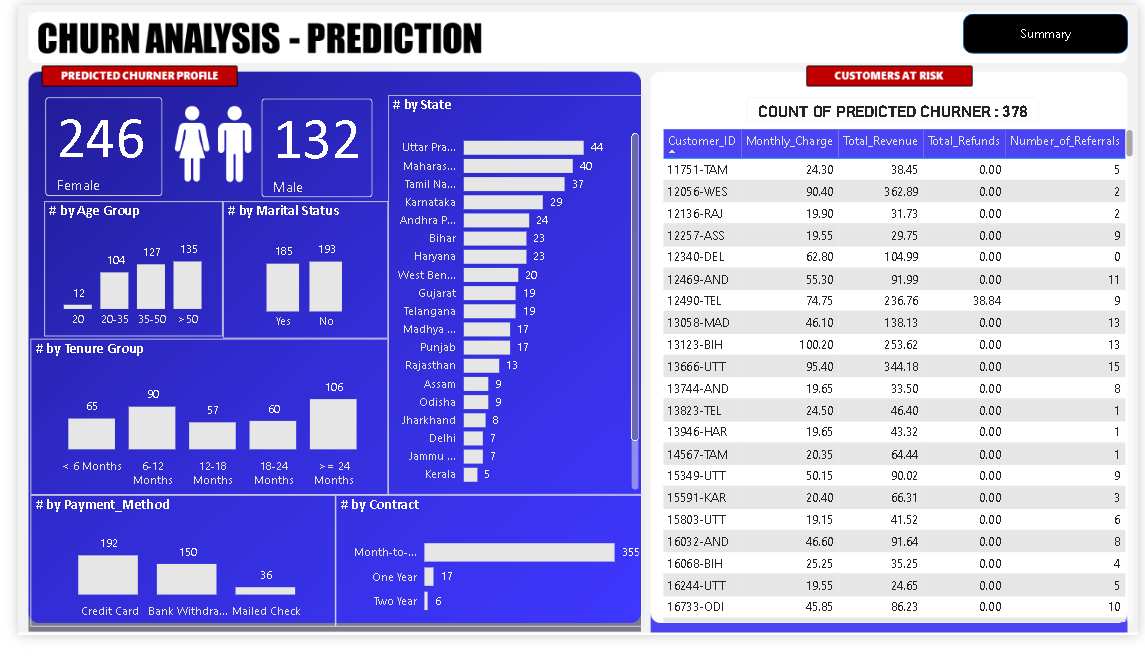

The dashboard page shown, as its layout file describes it:
{"tool":"powerbi","page":{"name":"Churn Prediction","canvas":[1280,720],"ordinal":2},"visuals":[{"type":"tableEx","fields":{"Values":["Predictions.Customer_ID","Predictions.Monthly_Charge","Predictions.Total_Revenue","Predictions.Total_Refunds","Predictions.Number_of_Referrals"]},"box":[731.4,137.1,548.6,572.9],"z":0},{"type":"cardVisual","fields":{"Data":["Table_Measures.Title Predicted Churner"]},"box":[815.7,88.6,368.6,62.9],"z":1000},{"type":"cardVisual","fields":{"Data":["Table_Measures.Count Predicted Churner"]},"box":[14.3,88.6,168.6,147.1],"z":2000},{"type":"cardVisual","fields":{"Data":["Table_Measures.Count Predicted Churner"]},"box":[261.4,90,161.4,147.1],"z":3000},{"type":"clusteredColumnChart","fields":{"Category":["Mapping_Age_grp.Age Group"],"Y":["CountNonNull(Predictions.Customer_ID)"]},"box":[30,224.3,204.3,154.3],"z":4000},{"type":"clusteredColumnChart","fields":{"Y":["CountNonNull(Predictions.Customer_ID)"],"Category":["Predictions.Married"]},"box":[234.3,224.3,188.6,157.1],"z":5000},{"type":"clusteredColumnChart","fields":{"Y":["CountNonNull(Predictions.Customer_ID)"],"Category":["Mapping_Tenure_grp.Tenure Group"]},"box":[14.3,381.4,408.6,178.6],"z":6000},{"type":"clusteredColumnChart","fields":{"Y":["CountNonNull(Predictions.Customer_ID)"],"Category":["Predictions.Payment_Method"]},"box":[14.3,560,348.6,150],"z":7000},{"type":"clusteredBarChart","fields":{"Y":["CountNonNull(Predictions.Customer_ID)"],"Category":["Predictions.Contract"]},"box":[362.9,560,352.9,150],"z":7001},{"type":"clusteredBarChart","fields":{"Y":["CountNonNull(Predictions.Customer_ID)"],"Category":["Predictions.State"]},"box":[422.9,102.9,292.9,457.1],"z":7002},{"type":"image","box":[166.4,102.9,111.4,110],"z":7003},{"type":"shape","box":[1080,10,188.6,45.7],"z":7004}]}

Visuals, with their boxes in screenshot pixels (x1, y1, x2, y2), scaled from the page's 1280x720 canvas onto the 1145x661 screenshot:
tableEx - Predictions.Customer_ID x Predictions.Monthly_Charge: [654, 126, 1144, 652]
cardVisual - Table_Measures.Title Predicted Churner: [730, 81, 1059, 139]
cardVisual - Table_Measures.Count Predicted Churner: [13, 81, 164, 216]
cardVisual - Table_Measures.Count Predicted Churner: [234, 83, 378, 218]
clusteredColumnChart - Mapping_Age_grp.Age Group x CountNonNull(Predictions.Customer_ID): [27, 206, 210, 348]
clusteredColumnChart - CountNonNull(Predictions.Customer_ID) x Predictions.Married: [210, 206, 378, 350]
clusteredColumnChart - CountNonNull(Predictions.Customer_ID) x Mapping_Tenure_grp.Tenure Group: [13, 350, 378, 514]
clusteredColumnChart - CountNonNull(Predictions.Customer_ID) x Predictions.Payment_Method: [13, 514, 325, 652]
clusteredBarChart - CountNonNull(Predictions.Customer_ID) x Predictions.Contract: [325, 514, 640, 652]
clusteredBarChart - CountNonNull(Predictions.Customer_ID) x Predictions.State: [378, 94, 640, 514]
image: [149, 94, 249, 195]
shape: [966, 9, 1135, 51]
